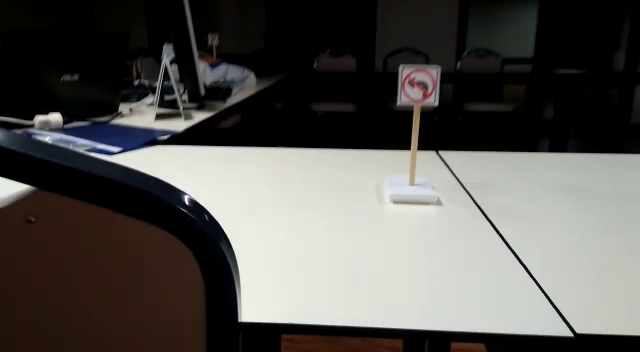sola_donulmez: (397, 65, 441, 108)
